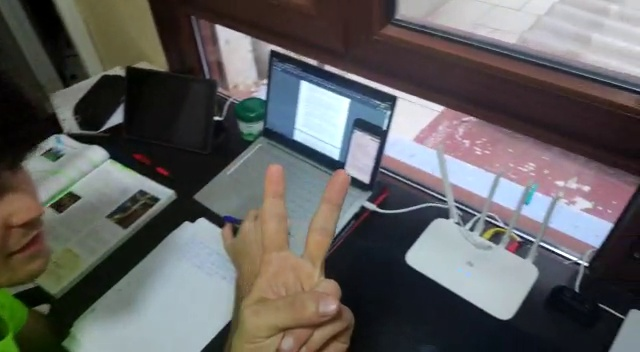Peace: (237, 156, 355, 352)
